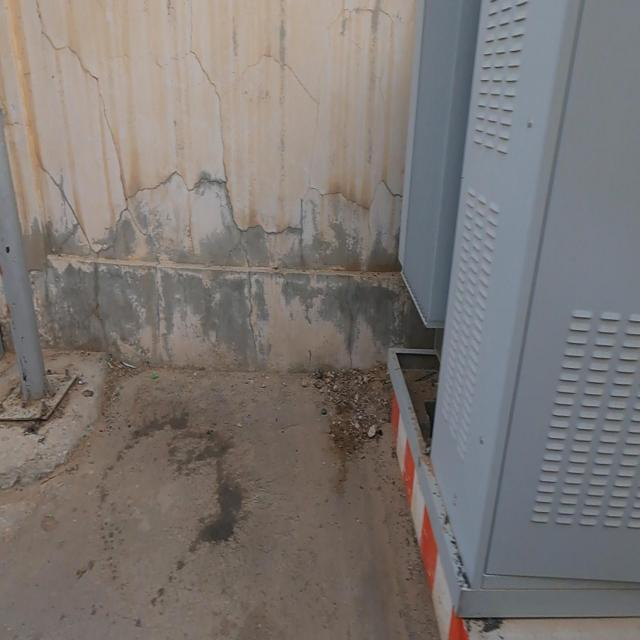debris: (0, 0, 519, 544)
